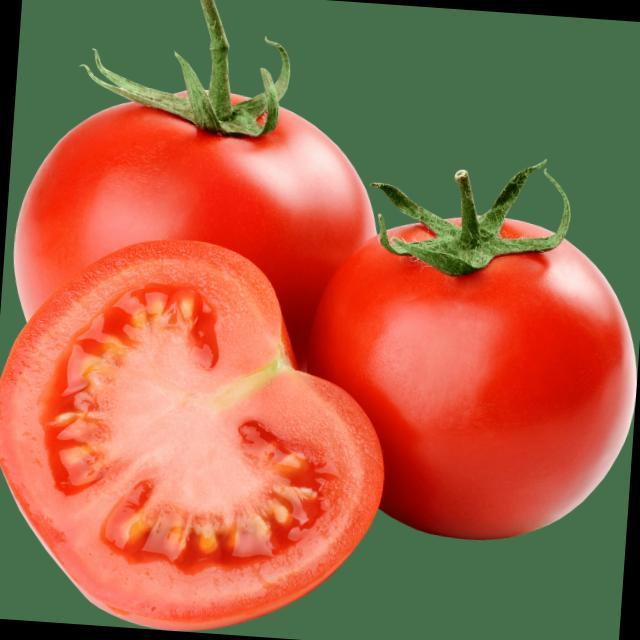TOMATO: (0, 228, 397, 640), (302, 200, 640, 552), (12, 44, 372, 348)
